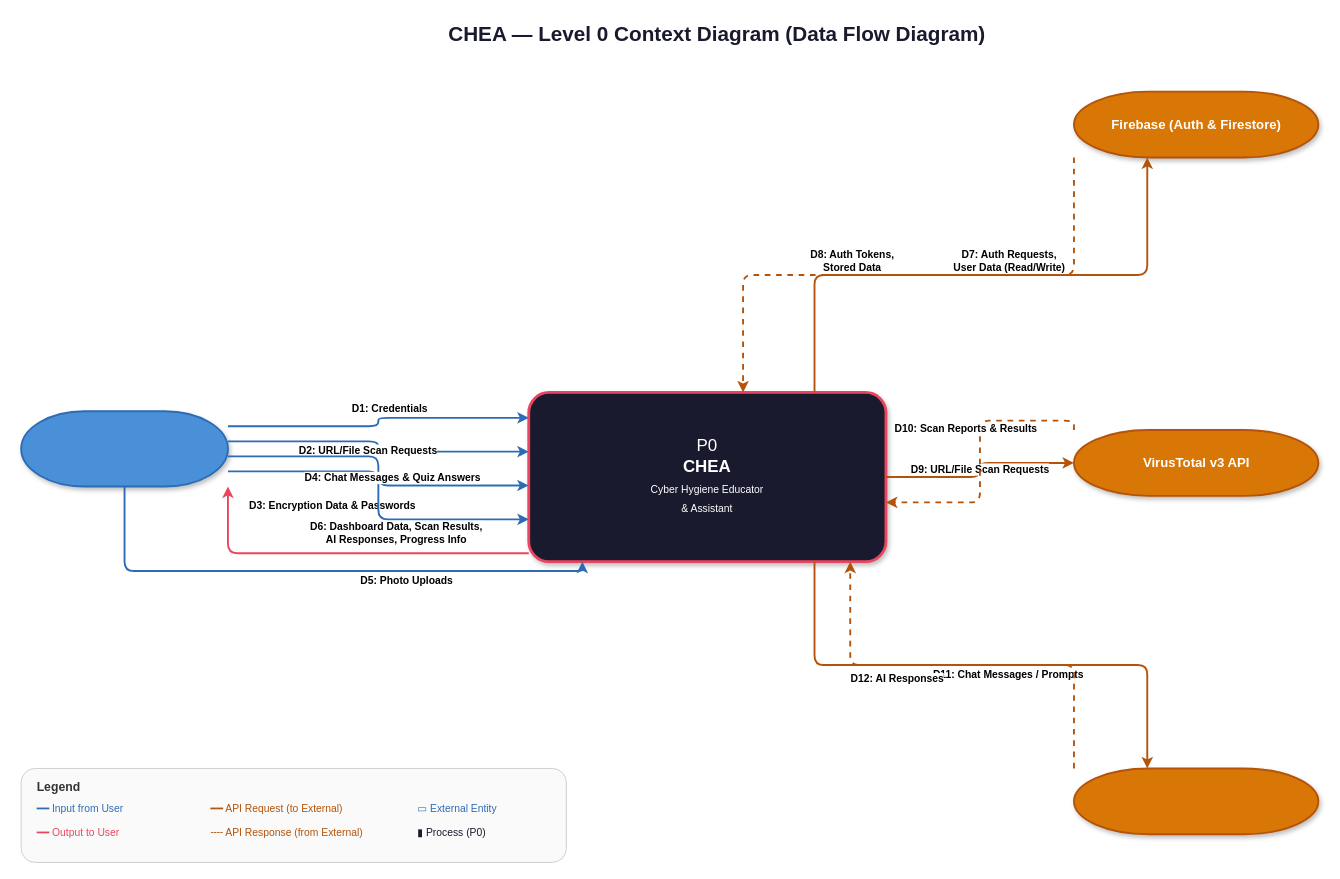
Image size: 1340x879. Some labels were removed from this diagram. The shapes that lost their labels are listed below. From the top down, each one's centre as x and y in pixels, then its label:
the point at 125,450: User (Student)
the point at 1196,802: OpenRouter API
